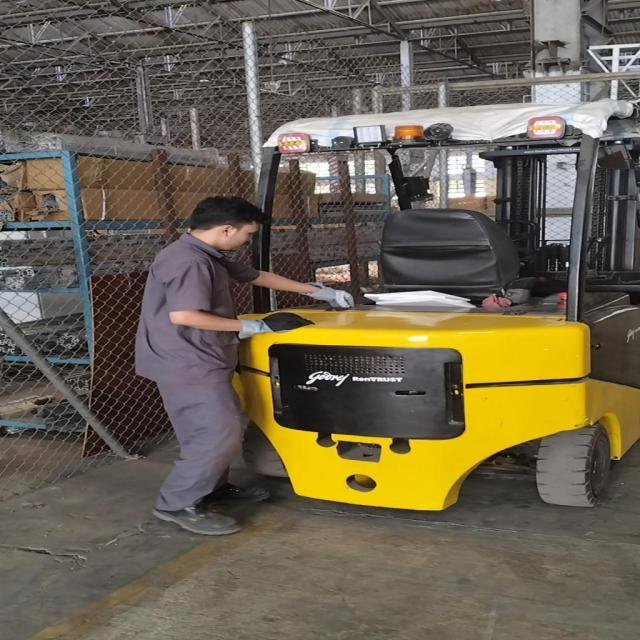Gloves-Detection: (235, 310, 310, 343), (304, 281, 351, 309)
